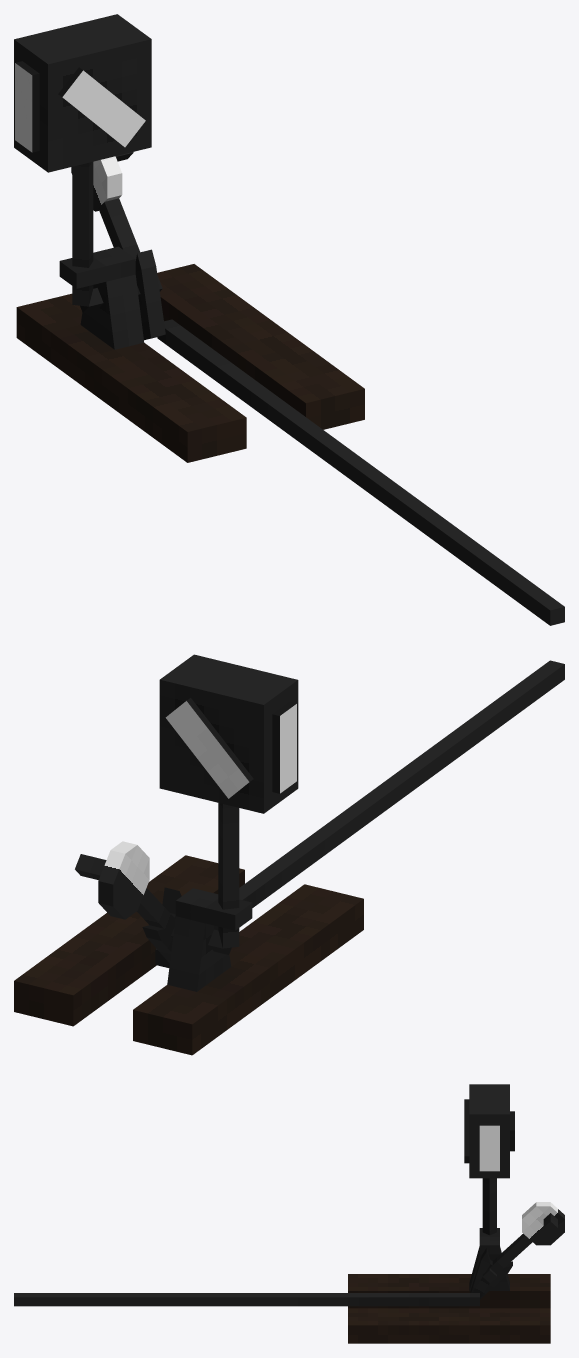
Rendered from switch_off.obj.
3 renders of one model, top to bottom at view 1: azimuth 30°, elevation 25°; view 2: azimuth 150°, elevation 25°; view 3: azimuth 270°, elevation 25°, orthographic. The views are drawn at different scales.
Visible parts, largest first — view 1: base_RAIL_BASE.001; view 2: base_RAIL_BASE.001; view 3: base_RAIL_BASE.001.
Boxes of the visible parts, x1,y1,x2,y2 form: base_RAIL_BASE.001: (14,14,564,625); base_RAIL_BASE.001: (14,654,564,1055); base_RAIL_BASE.001: (14,1084,564,1343).
Bounding box in the file's own units: 0.9375 × 1.34 × 3.4.
1 material, 1 textured.
